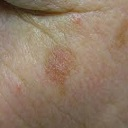Actinic: (38, 46, 80, 85)
